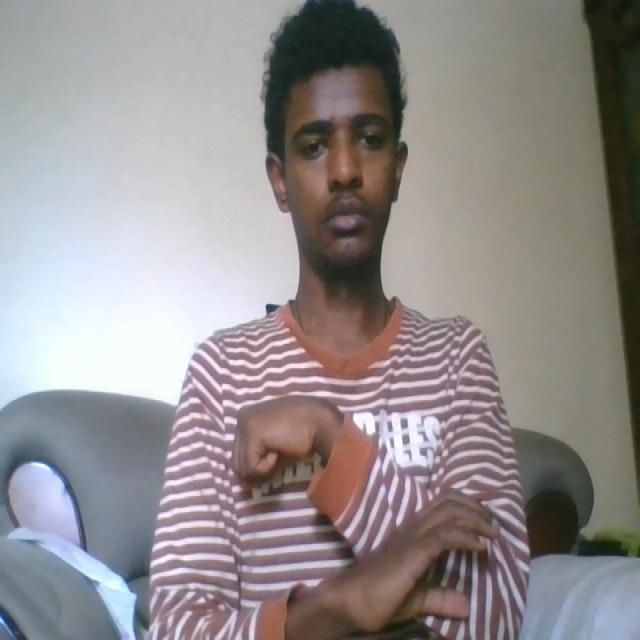hager: (230, 391, 504, 638)
